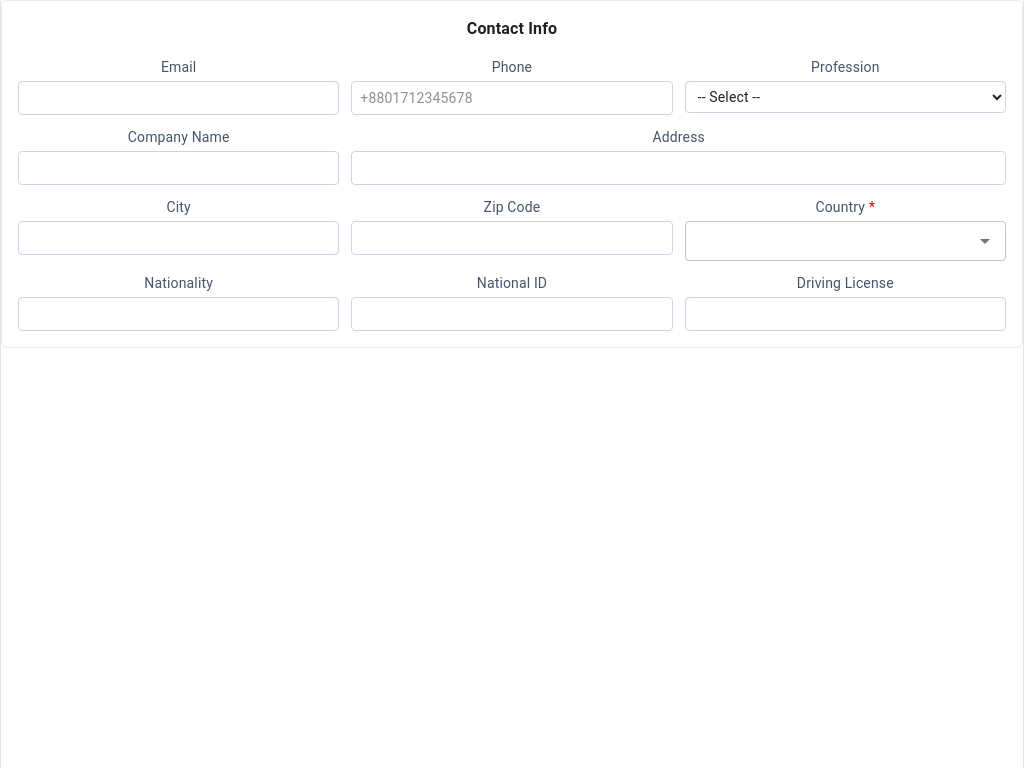
GuestContactSection › shows inline error when email is invalid
Type "foo" into the field with test id "guest-email" at (179, 98), box [18, 81, 339, 115]
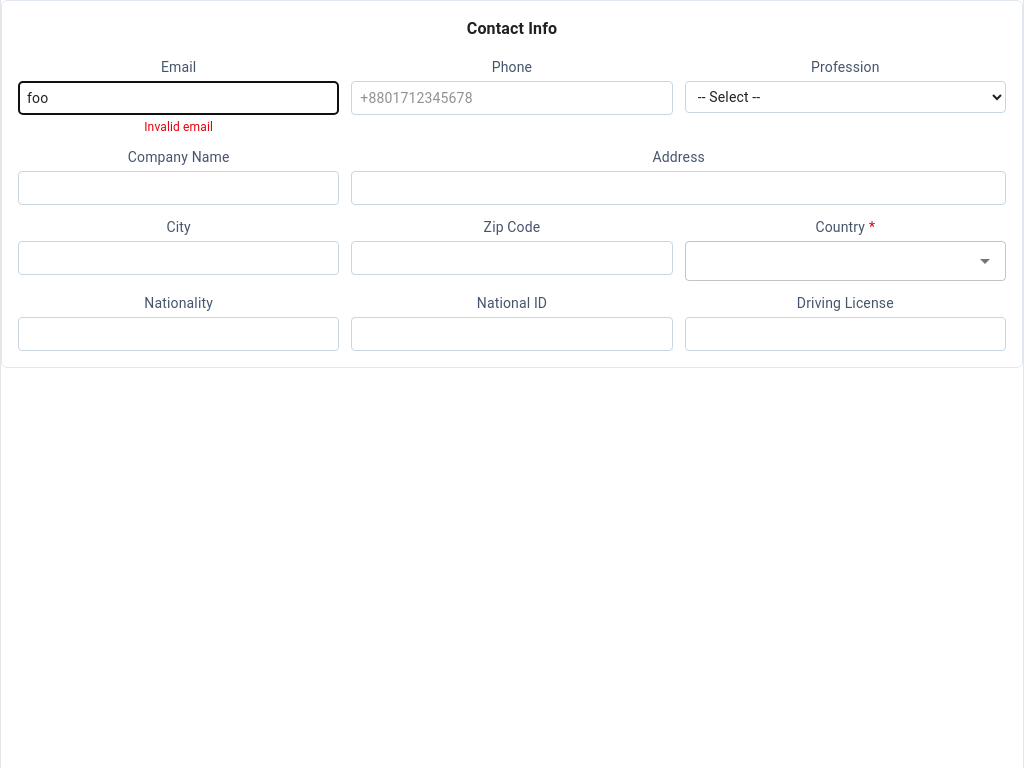
Expected: the text "Invalid email" is shown, [144, 120, 213, 134]
